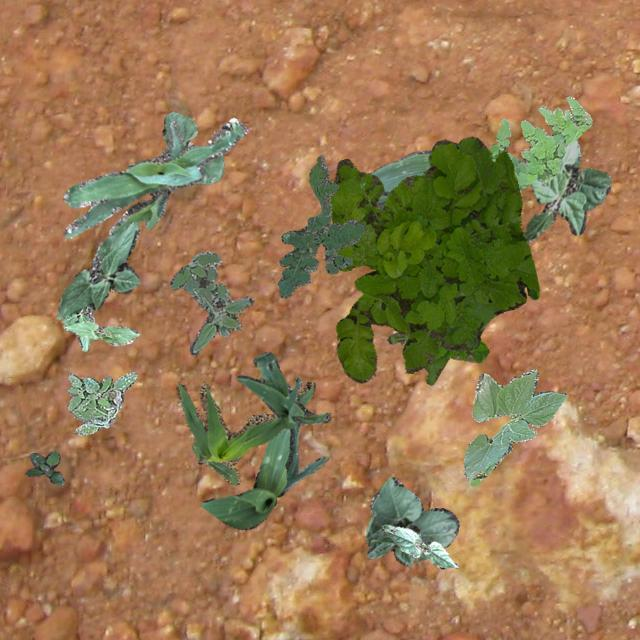crop: (62, 116, 246, 238), (174, 380, 314, 484), (200, 426, 328, 528), (462, 368, 566, 486), (236, 350, 330, 480), (524, 137, 610, 240), (366, 477, 458, 568), (55, 220, 138, 318), (162, 110, 224, 184), (368, 148, 431, 212), (380, 524, 458, 568), (62, 320, 138, 344), (61, 304, 93, 350)
weed: (328, 136, 538, 382), (276, 154, 364, 296), (488, 96, 590, 190), (168, 250, 252, 354), (387, 332, 488, 384), (66, 372, 136, 434), (24, 450, 62, 484)
